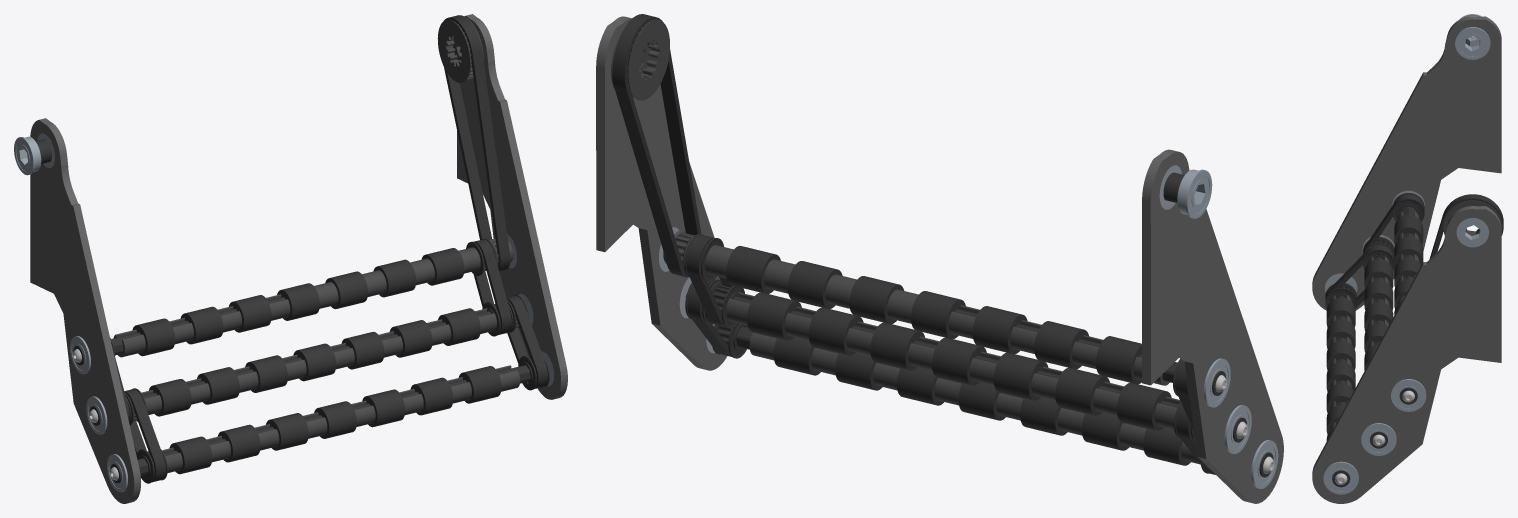
The picture shows the model from 3 angles, left to right: view 1: azimuth 30°, elevation 25°; view 2: azimuth 150°, elevation 25°; view 3: azimuth 270°, elevation 25°; orthographic projection. The views are drawn at different scales.
Parts seen in each view (by area): view 1: Sushi Roller (60A, 1/2" Hex Bore) (×21), Part 17, Part 12, 91t 5mm Belt, 35t 5mm Belt (×3), Shaft (×3), 32t HTD Pulley 9.53mm Wide, .5" Hex ID 1.125" OD Flanged Bearing (217-2734); view 2: Sushi Roller (60A, 1/2" Hex Bore) (×21), Part 17, Part 12, 91t 5mm Belt, .5" Hex ID 1.125" OD Flanged Bearing (217-2734) (×4), 32t HTD Pulley 9.53mm Wide, Shaft (×3), 35t 5mm Belt (×2), Snap on Spacer (×3); view 3: Part 12, Part 17, Sushi Roller (60A, 1/2" Hex Bore) (×14), .5" Hex ID 1.125" OD Flanged Bearing (217-2734) (×6), Shaft (×3), 15t Aluminum Pulley (HTD 5mm, 9mm Wide, 1/2" Hex Bore) (×3), 35t 5mm Belt (×2), 91t 5mm Belt, 32t HTD Pulley 9.53mm Wide.
Boxes of the visible parts, x1,y1,x2,y2 form: Sushi Roller (60A, 1/2" Hex Bore) (×21): (132, 248, 501, 474); Part 17: (30, 118, 140, 503); Part 12: (457, 14, 567, 399); 91t 5mm Belt: (444, 15, 510, 271); 35t 5mm Belt (×3): (124, 239, 547, 482); Shaft (×3): (72, 297, 548, 483); 32t HTD Pulley 9.53mm Wide: (437, 18, 483, 82); .5" Hex ID 1.125" OD Flanged Bearing (217-2734): (14, 136, 41, 175); Sushi Roller (60A, 1/2" Hex Bore) (×21): (726, 246, 1190, 465); Part 17: (1142, 149, 1283, 503); Part 12: (596, 16, 727, 370); 91t 5mm Belt: (612, 14, 701, 277); .5" Hex ID 1.125" OD Flanged Bearing (217-2734) (×4): (1177, 169, 1278, 488); 32t HTD Pulley 9.53mm Wide: (611, 18, 669, 100); Shaft (×3): (685, 294, 1274, 477); 35t 5mm Belt (×2): (686, 235, 732, 356); Snap on Spacer (×3): (764, 259, 918, 323); Part 12: (1312, 206, 1501, 503); Part 17: (1312, 16, 1501, 310); Sushi Roller (60A, 1/2" Hex Bore) (×14): (1326, 215, 1423, 434); .5" Hex ID 1.125" OD Flanged Bearing (217-2734) (×6): (1323, 27, 1490, 494); Shaft (×3): (1332, 206, 1417, 487); 15t Aluminum Pulley (HTD 5mm, 9mm Wide, 1/2" Hex Bore) (×3): (1325, 193, 1424, 308); 35t 5mm Belt (×2): (1325, 194, 1424, 307); 91t 5mm Belt: (1429, 194, 1503, 259); 32t HTD Pulley 9.53mm Wide: (1443, 200, 1502, 236).
Bounding box in the file's own units: 0.4267 × 0.2898 × 0.1679.
